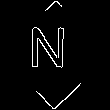N_S: (35, 30, 75, 80)
